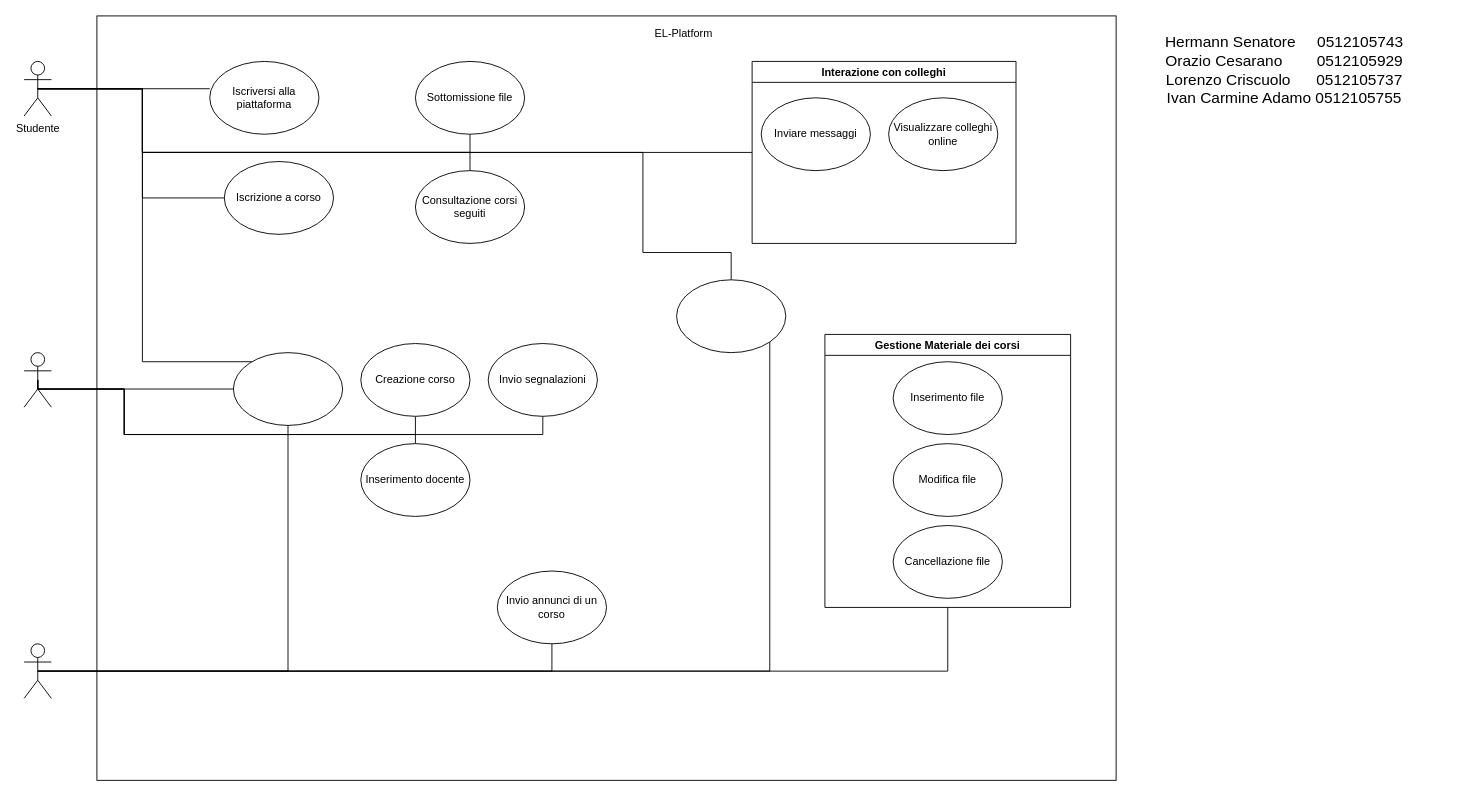
This 1468x796 diagram has some shape labels left out. Each missing label, with the centre of its shape:
"Admin" goes at (x=37, y=379).
"Docente" goes at (x=37, y=670).
"Effettuare Login" goes at (x=288, y=388).
"Gestione profilo" goes at (x=731, y=316).
